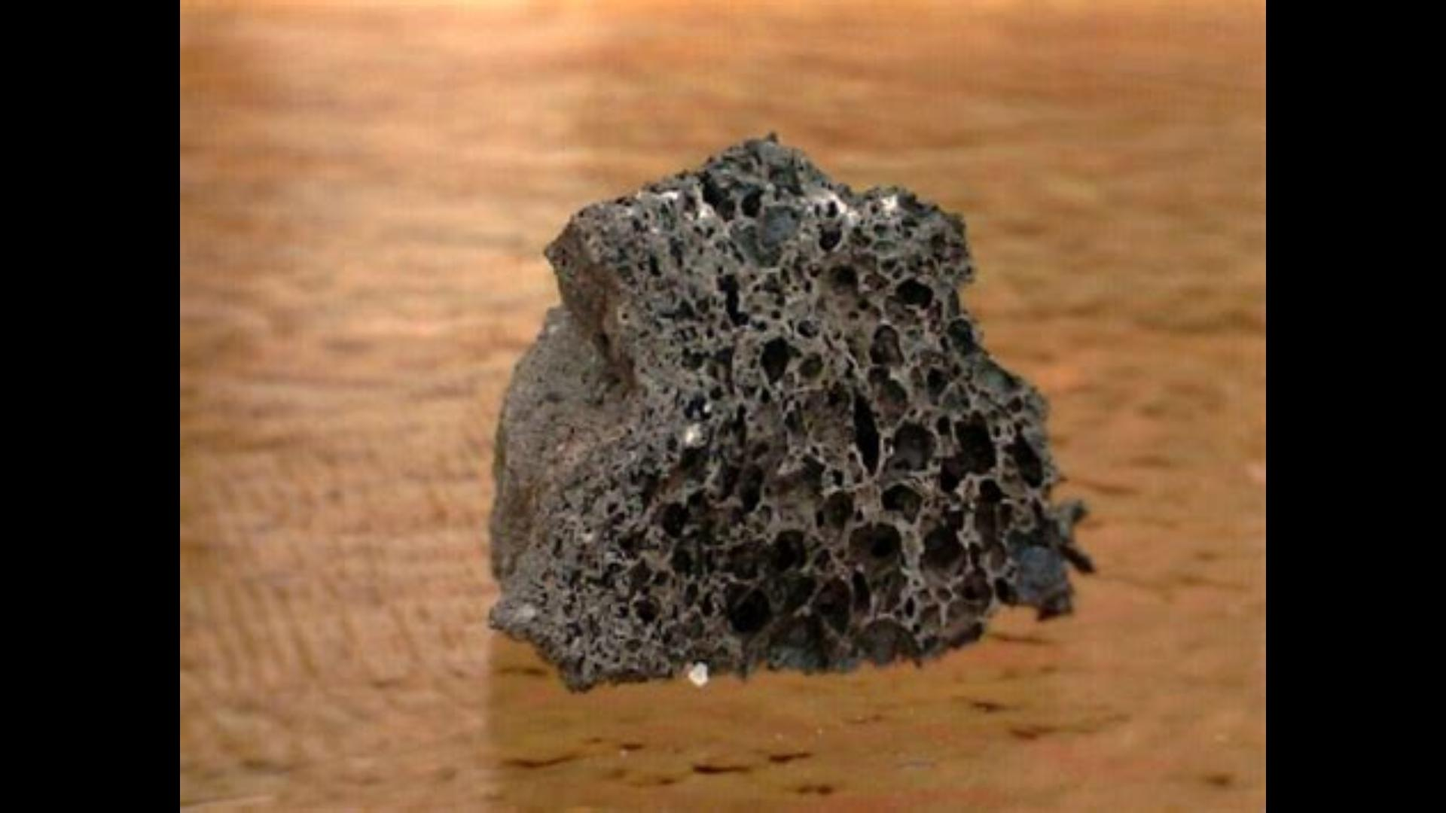rock: (494, 135, 1085, 682)
